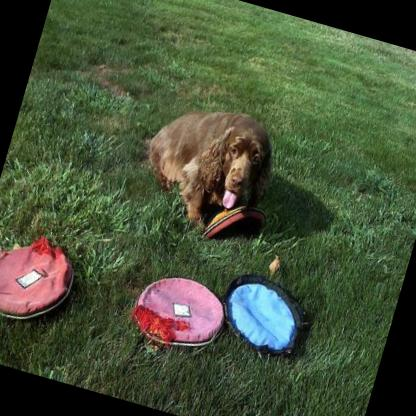Sussex_spaniel: (127, 87, 285, 245)
